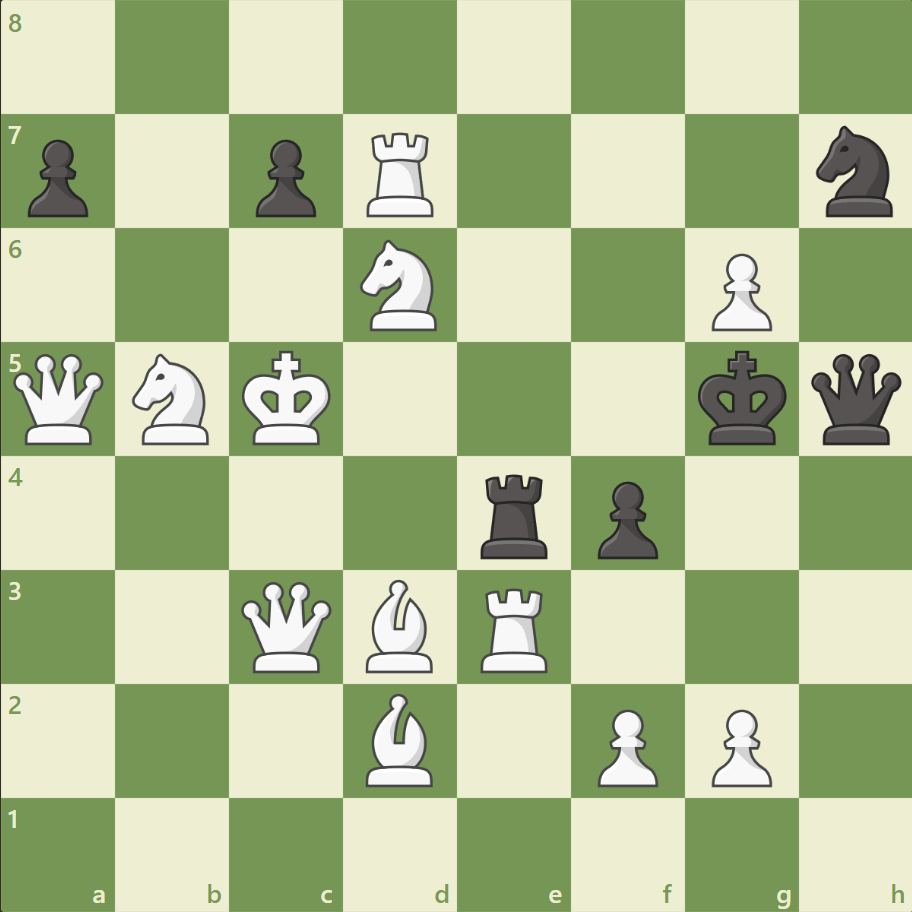B: (358, 687, 442, 790), (358, 574, 442, 676)
K: (238, 344, 338, 452)
N: (351, 234, 449, 337), (124, 348, 222, 450)
P: (701, 246, 776, 337), (701, 700, 776, 791), (588, 700, 662, 791)
Q: (10, 349, 109, 449), (237, 576, 336, 676)
R: (473, 579, 556, 676), (360, 125, 442, 222)
k: (692, 344, 792, 452)
n: (806, 121, 903, 223)
p: (20, 132, 95, 223), (247, 132, 322, 223), (588, 473, 662, 564)
q: (805, 349, 904, 449)
r: (473, 466, 556, 563)
